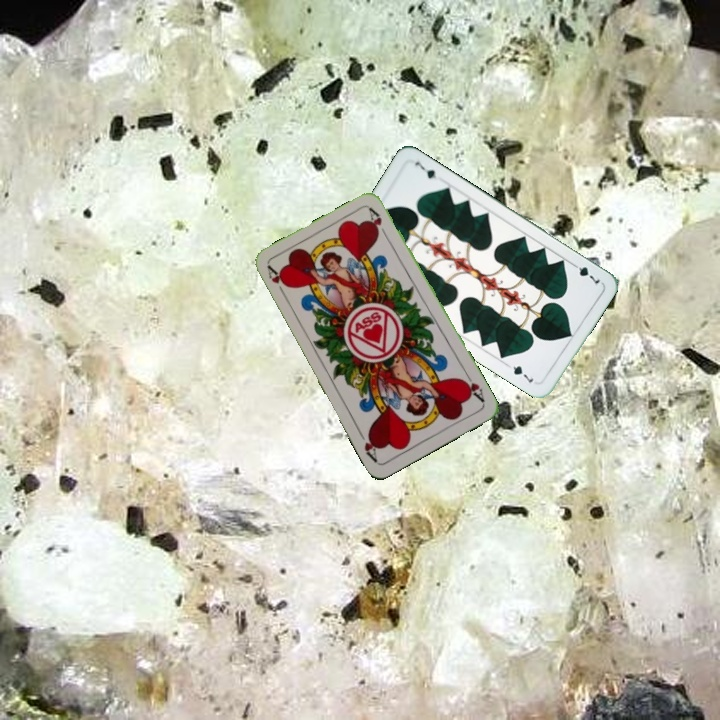G7: (567, 259, 603, 286)
HA: (458, 368, 487, 405), (263, 262, 291, 300)
